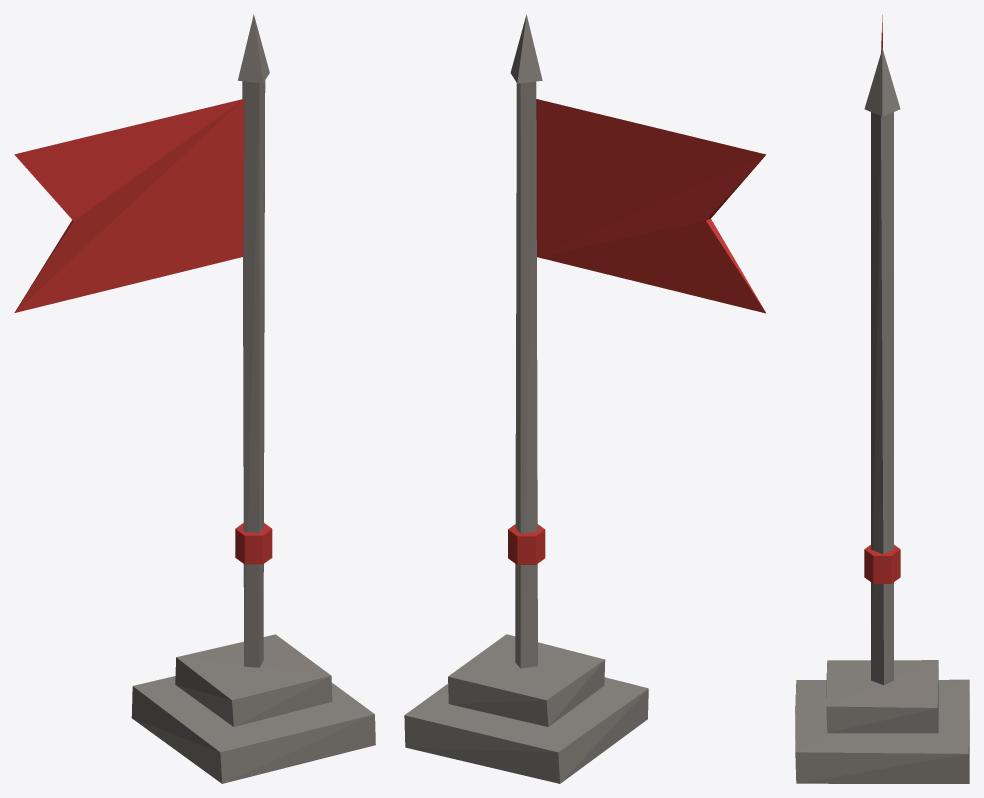
The model's file is rally_flag_crimson_lod1.obj.
3 renders of one model, left to right at view 1: azimuth 30°, elevation 25°; view 2: azimuth 150°, elevation 25°; view 3: azimuth 270°, elevation 25°, orthographic. The views are drawn at different scales.
Parts seen in each view (by area): view 1: rally_flag_crimson_lod1; view 2: rally_flag_crimson_lod1; view 3: rally_flag_crimson_lod1.
Boxes of the visible parts, bbox=[...] form: rally_flag_crimson_lod1: bbox=[14, 14, 375, 783]; rally_flag_crimson_lod1: bbox=[404, 14, 766, 783]; rally_flag_crimson_lod1: bbox=[795, 15, 969, 783].
Size of the model in its own units: 1.38 by 2.99 by 0.675.
